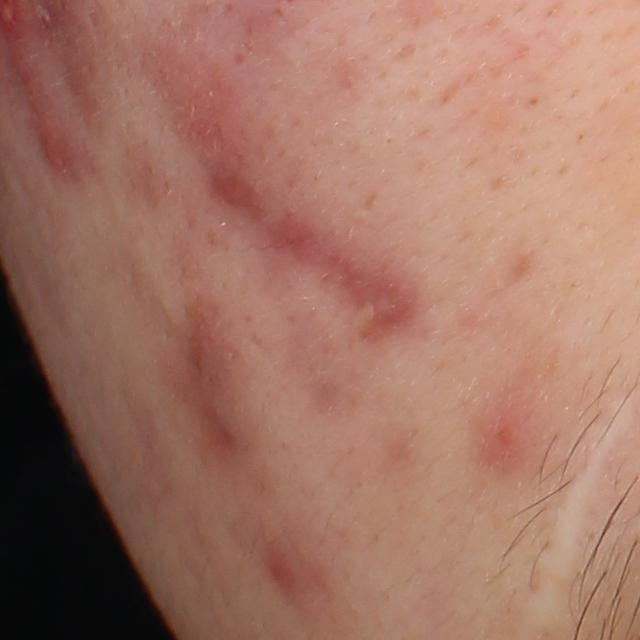atrophic_scar: (207, 170, 330, 309), (32, 37, 117, 135), (329, 268, 415, 345)
